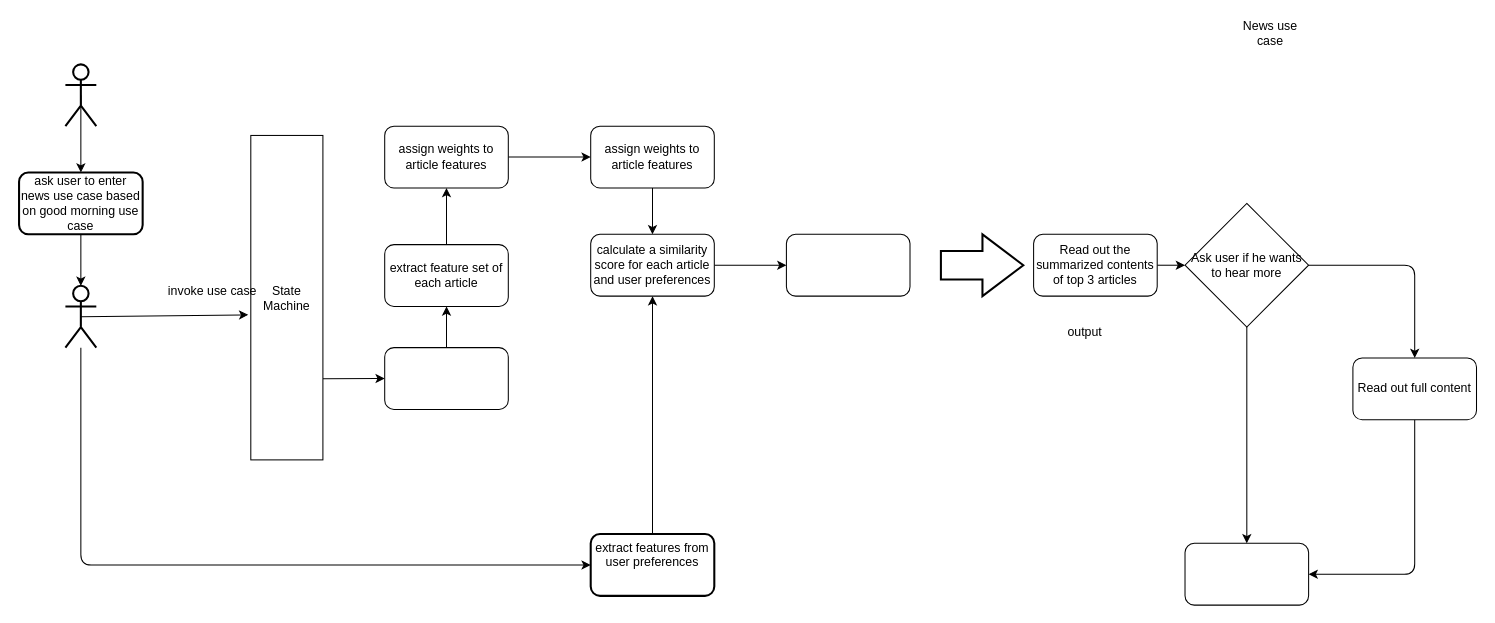
The diagram is 1495 pixels wide and 623 high, and some of its shapes have lost their labels. The shapes that lost their labels are listed below. From the top down, each one's centre as x and y in pixels, then its label:
the point at 80,95: Luna
the point at 847,264: rank articles based on similarity score
the point at 80,316: User
the point at 446,378: poll news articles
the point at 1246,573: provide list of links to the articles
